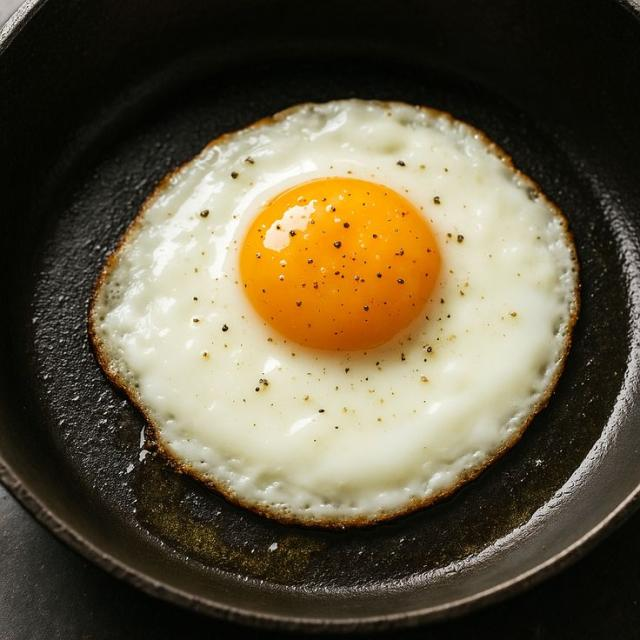fryed egg: (90, 100, 578, 526)
